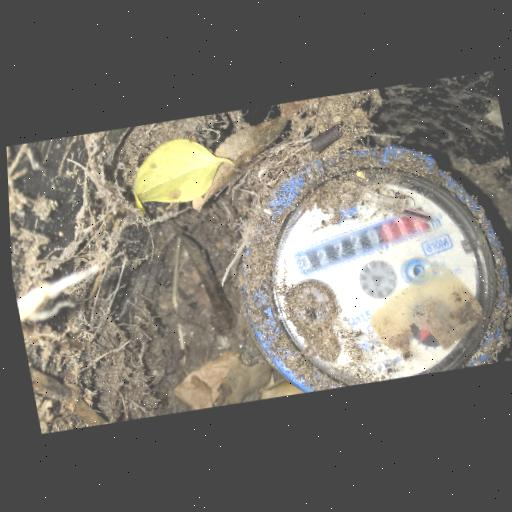0: (296, 252, 315, 274), (379, 221, 397, 244), (408, 210, 425, 234)
2: (313, 246, 333, 268), (348, 232, 365, 253)
4: (394, 217, 411, 239)
7: (329, 239, 349, 262)
9: (364, 226, 383, 247)
border_water_meter_number: (286, 205, 438, 279)
